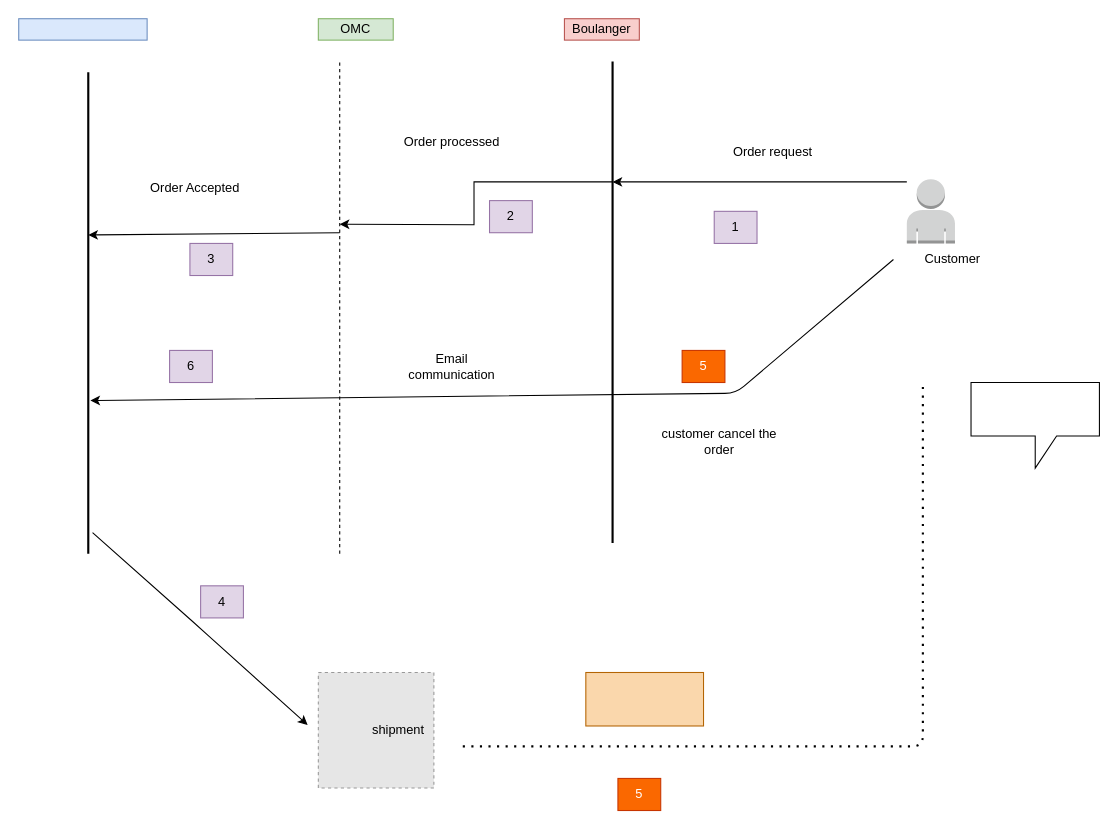
This 1118x829 diagram has some shape labels left out. Grey dashed boxes stand in for pictures. Here are the shapes that lost their labels. From the top down, the centre of each, then its label:
At point 82,29: "Decathlon(SAP)".
At point 1034,424: "How the return will be managed by decathlon?".
At point 644,698: "Order is in midway".
